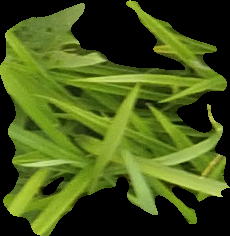grass: (1, 1, 229, 234)
